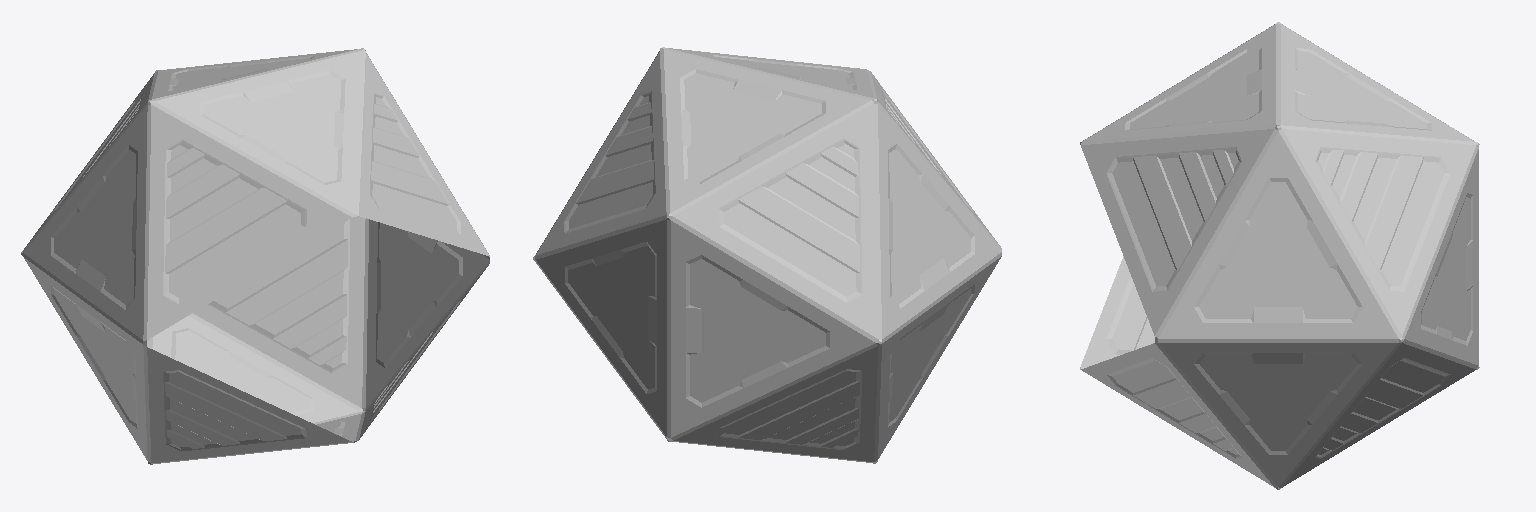
The model's file is oolite_ico_hull.alt.obj.
The picture shows the model from 3 angles: view 1: azimuth 30°, elevation 25°; view 2: azimuth 150°, elevation 25°; view 3: azimuth 270°, elevation 25°; orthographic projection.
Visible parts, largest first — view 1: oolite_ico_hull.obj; view 2: oolite_ico_hull.obj; view 3: oolite_ico_hull.obj.
Part boxes in pixels (left/top/right/bottom): oolite_ico_hull.obj: left=21, top=48, right=489, bottom=464; oolite_ico_hull.obj: left=533, top=47, right=1001, bottom=463; oolite_ico_hull.obj: left=1080, top=22, right=1479, bottom=489.
Bounding box in the file's own units: 1291 × 1291 × 1281.